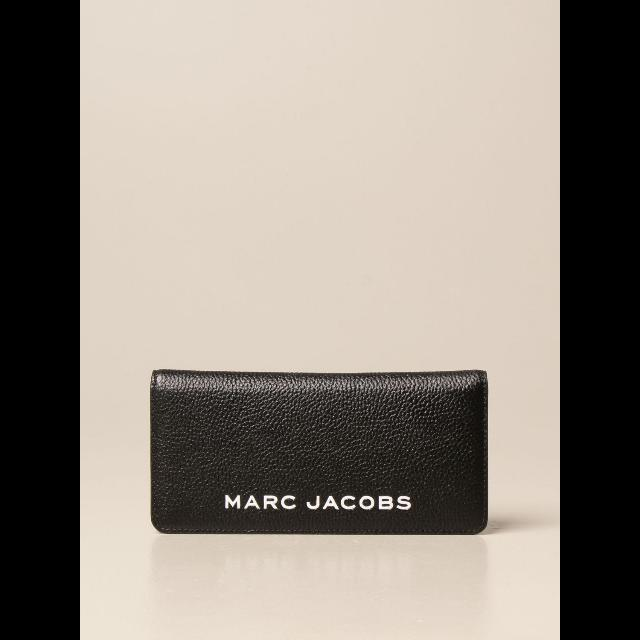wallet: (150, 366, 486, 534)
